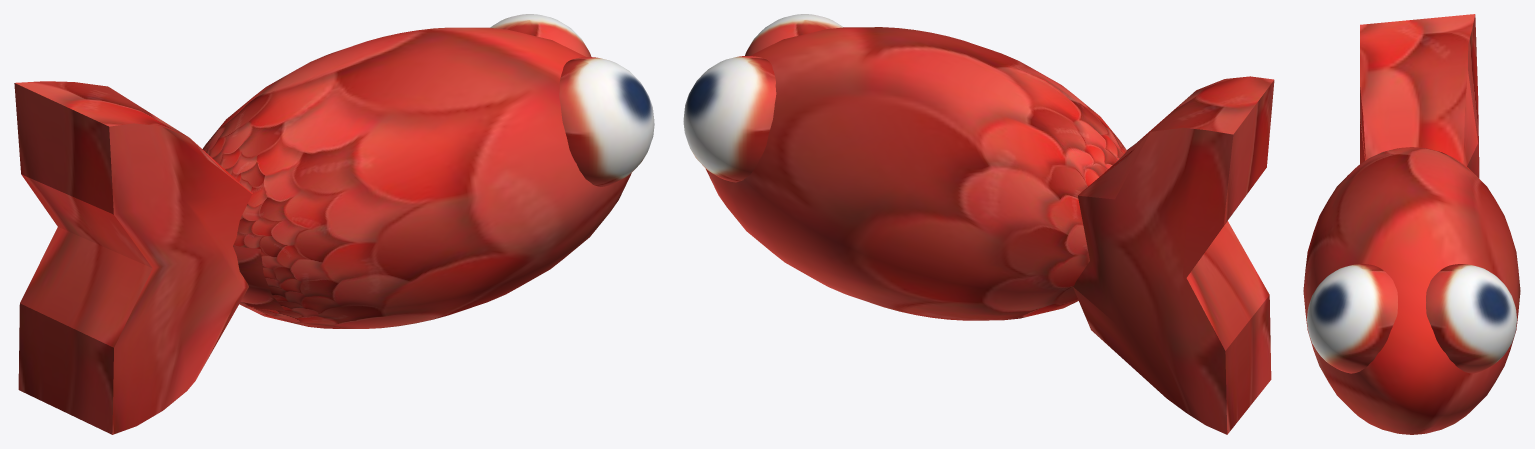
Rendered from pez.fbx.
The picture shows the model from 3 angles, left to right: view 1: azimuth 30°, elevation 25°; view 2: azimuth 150°, elevation 25°; view 3: azimuth 270°, elevation 25°; orthographic projection. The views are drawn at different scales.
Parts seen in each view (by area): view 1: Esfera, Cubo, Esfera.001; view 2: Esfera, Cubo, Esfera.001; view 3: Esfera, Cubo, Esfera.001.
Boxes of the visible parts, x1,y1,x2,y2 form: Esfera: (202,27,631,328); Cubo: (14,81,252,434); Esfera.001: (490,14,654,186); Esfera: (706,27,1126,320); Cubo: (1073,76,1274,434); Esfera.001: (683,14,843,182); Esfera: (1303,147,1520,434); Cubo: (1360,14,1479,178); Esfera.001: (1307,264,1516,373).
Bounding box in the file's own units: 446 × 228 × 172.
